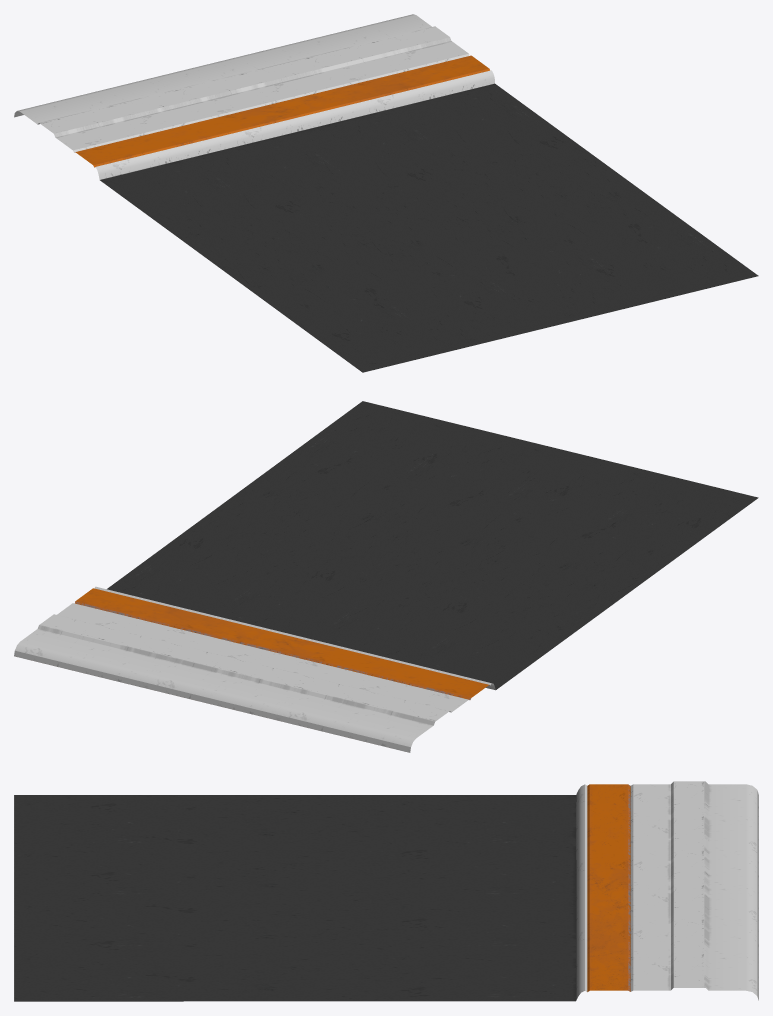
File: Floor_FullSide.fbx
The picture shows the model from 3 angles, top to bottom: view 1: azimuth 30°, elevation 25°; view 2: azimuth 150°, elevation 25°; view 3: azimuth 270°, elevation 25°; orthographic projection. The views are drawn at different scales.
Visible parts, largest first — view 1: Floor_FullSide; view 2: Floor_FullSide; view 3: Floor_FullSide.
Part boxes in pixels (x1=…): Floor_FullSide: x1=14, y1=14, x2=758, y2=372; Floor_FullSide: x1=14, y1=401, x2=758, y2=752; Floor_FullSide: x1=14, y1=781, x2=758, y2=1001.
Bounding box in the file's own units: 4.25 × 0.1315 × 6.47.
